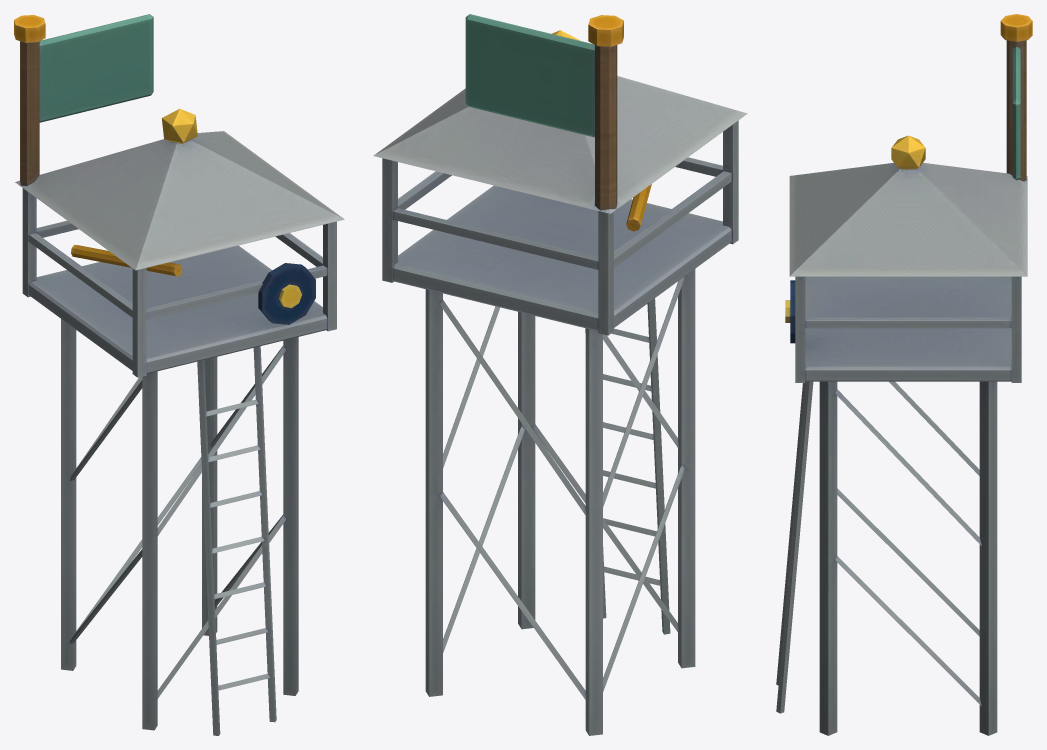
File: watchtower-3-age20.glb
3 renders of one model, left to right at view 1: azimuth 30°, elevation 25°; view 2: azimuth 150°, elevation 25°; view 3: azimuth 270°, elevation 25°, orthographic. The views are drawn at different scales.
Visible parts, largest first — view 1: watchtower-3-age20; view 2: watchtower-3-age20; view 3: watchtower-3-age20.
Part boxes in pixels (box(x1,y1,x2,y2)): watchtower-3-age20: box(14, 14, 344, 735); watchtower-3-age20: box(373, 14, 747, 735); watchtower-3-age20: box(776, 14, 1032, 735).
Bounding box in the file's own units: 0.607 × 1.74 × 0.64.
1 material, 1 textured.
